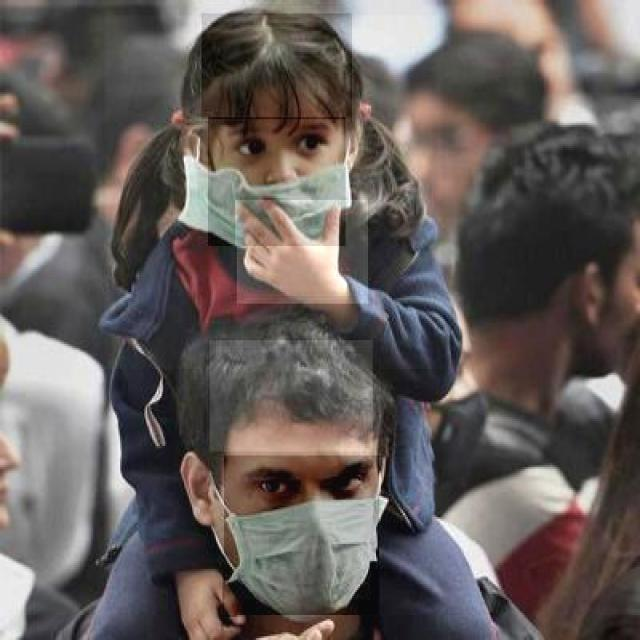face_mask: (222, 455, 380, 617), (207, 117, 346, 248)
hand_noglove: (235, 200, 368, 305), (162, 559, 236, 638)
head_nohelmet: (208, 340, 373, 454), (200, 14, 352, 119)
person: (104, 15, 442, 371)
